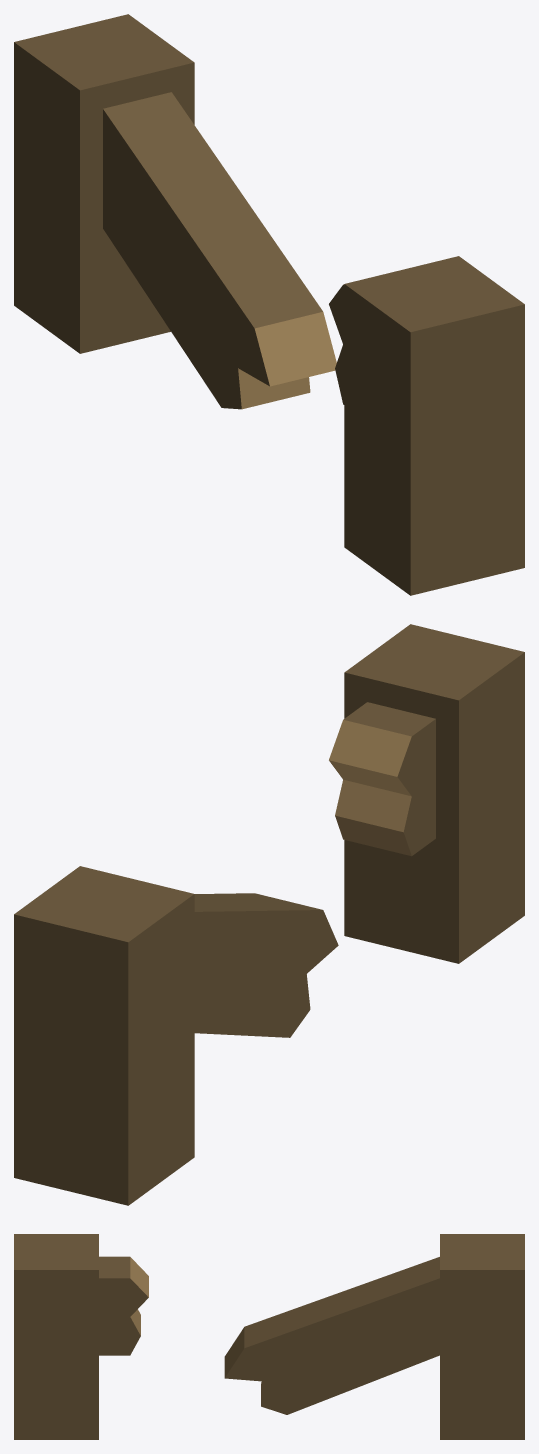
The model's file is Wood_Fence_Broken_01.obj.
The picture shows the model from 3 angles, top to bottom: view 1: azimuth 30°, elevation 25°; view 2: azimuth 150°, elevation 25°; view 3: azimuth 270°, elevation 25°; orthographic projection. The views are drawn at different scales.
Parts seen in each view (by area): view 1: Mesh2_Wood_Fence_Broken_Model, Mesh1_Wood_Fence_Broken_Model; view 2: Mesh2_Wood_Fence_Broken_Model, Mesh1_Wood_Fence_Broken_Model; view 3: Mesh2_Wood_Fence_Broken_Model, Mesh1_Wood_Fence_Broken_Model.
Boxes of the visible parts, x1=… form: Mesh2_Wood_Fence_Broken_Model: x1=14, y1=14, x2=336, y2=409; Mesh1_Wood_Fence_Broken_Model: x1=329, y1=256, x2=524, y2=595; Mesh2_Wood_Fence_Broken_Model: x1=14, y1=866, x2=338, y2=1205; Mesh1_Wood_Fence_Broken_Model: x1=329, y1=624, x2=524, y2=963; Mesh2_Wood_Fence_Broken_Model: x1=224, y1=1234, x2=524, y2=1439; Mesh1_Wood_Fence_Broken_Model: x1=14, y1=1234, x2=148, y2=1439.
Size of the model in its own units: 0.5 by 1.1 by 3.
